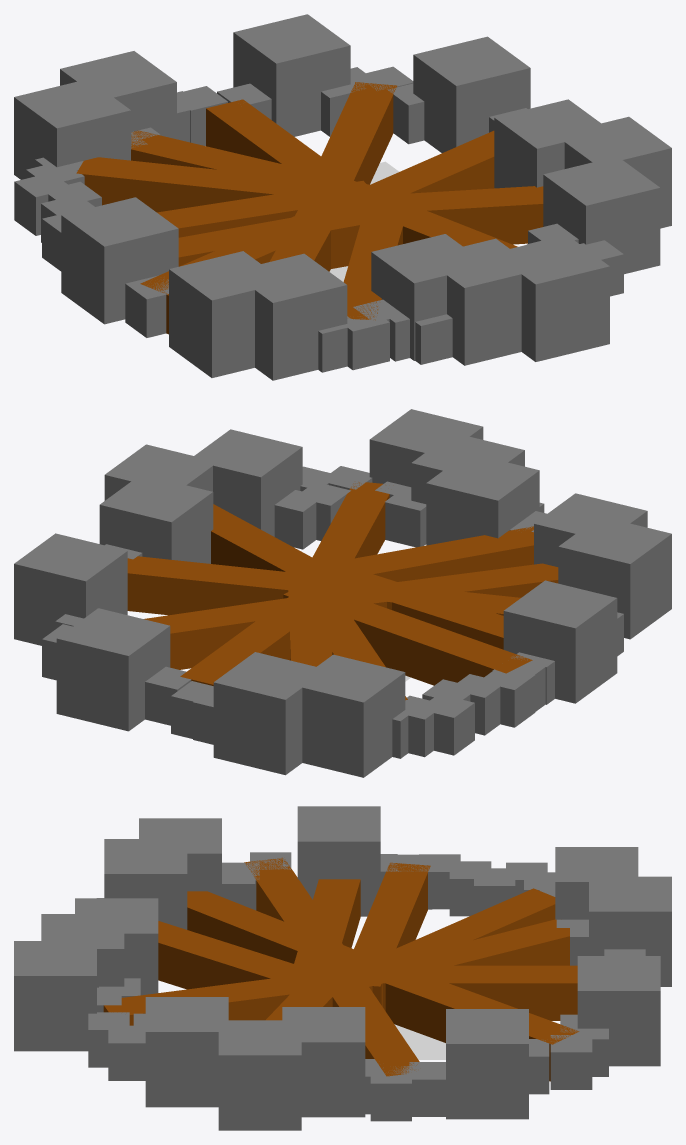
File: fire.gltf
3 renders of one model, top to bottom at view 1: azimuth 30°, elevation 25°; view 2: azimuth 150°, elevation 25°; view 3: azimuth 270°, elevation 25°, orthographic. The views are drawn at different scales.
Visible parts, largest first — view 1: Rock.011, Rock.028, Rock.012, Rock.005, Rock.004, Rock.023, Rock.017, Rock.010, Rock.019, Log.010, Log.001, Rock.025 (+32 smaller); view 2: Rock.005, Rock.010, Rock.008, Rock.011, Rock.012, Rock.004, Rock.018, Rock.025, Log.004, Log.009, Rock.023, Log.007 (+30 smaller); view 3: Rock.024, Rock.004, Rock.023, Rock.028, Rock.005, Rock.025, Rock.011, Rock.008, Log.007, Rock.017, Log.001, Log.012 (+32 smaller).
Part boxes in pixels (<box>): Rock.011: <box>61,197,178,324</box>; Rock.028: <box>493,235,609,361</box>; Rock.012: <box>169,251,285,377</box>; Rock.005: <box>233,14,350,136</box>; Rock.004: <box>413,36,530,152</box>; Rock.023: <box>543,160,660,274</box>; Rock.017: <box>230,253,347,380</box>; Rock.010: <box>14,79,131,179</box>; Rock.019: <box>422,238,537,365</box>; Log.010: <box>76,157,302,212</box>; Log.001: <box>206,99,392,218</box>; Rock.025: <box>494,99,610,188</box>; Rock.005: <box>56,608,170,731</box>; Rock.010: <box>302,654,405,777</box>; Rock.008: <box>213,652,326,775</box>; Rock.011: <box>503,580,617,703</box>; Rock.012: <box>558,516,671,639</box>; Rock.004: <box>14,533,127,645</box>; Rock.018: <box>426,453,539,545</box>; Rock.025: <box>99,475,213,563</box>; Log.004: <box>127,556,377,615</box>; Log.009: <box>283,592,532,685</box>; Rock.023: <box>189,429,302,536</box>; Log.007: <box>345,526,533,581</box>; Rock.024: <box>218,1020,301,1130</box>; Rock.004: <box>446,1009,528,1119</box>; Rock.023: <box>145,997,228,1107</box>; Rock.028: <box>14,941,96,1051</box>; Rock.005: <box>577,956,660,1066</box>; Rock.025: <box>282,1007,365,1117</box>; Rock.011: <box>297,806,380,916</box>; Rock.008: <box>589,876,671,986</box>; Log.007: <box>158,921,346,997</box>; Rock.017: <box>104,839,187,929</box>; Log.001: <box>309,965,577,1020</box>; Log.012: <box>187,891,384,967</box>.
Bounding box in the file's own units: 2.84 × 0.4 × 3.17.
